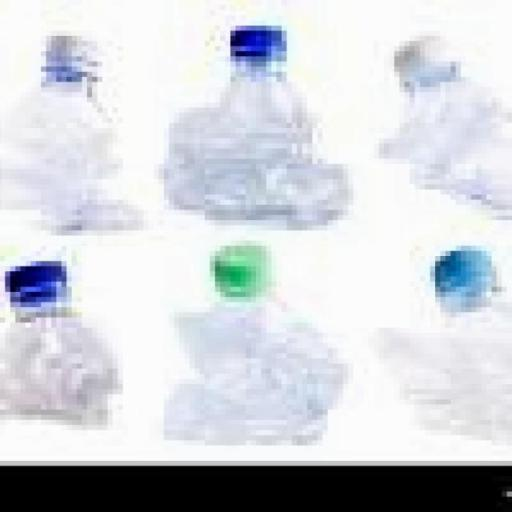plastic: (142, 230, 351, 456), (156, 26, 355, 238), (2, 23, 151, 246), (366, 238, 512, 446), (365, 23, 512, 216), (0, 245, 137, 435)
